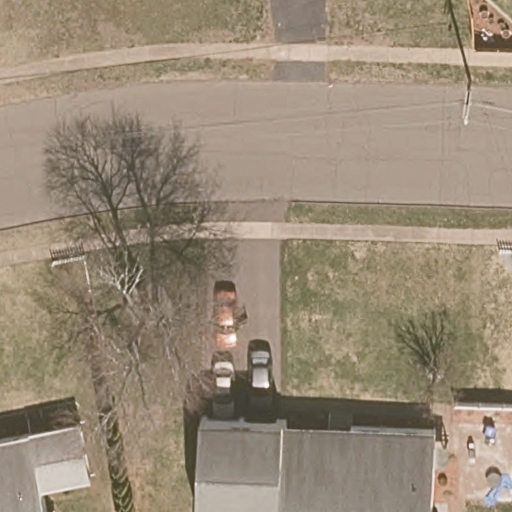DT: (459, 80, 472, 126)
